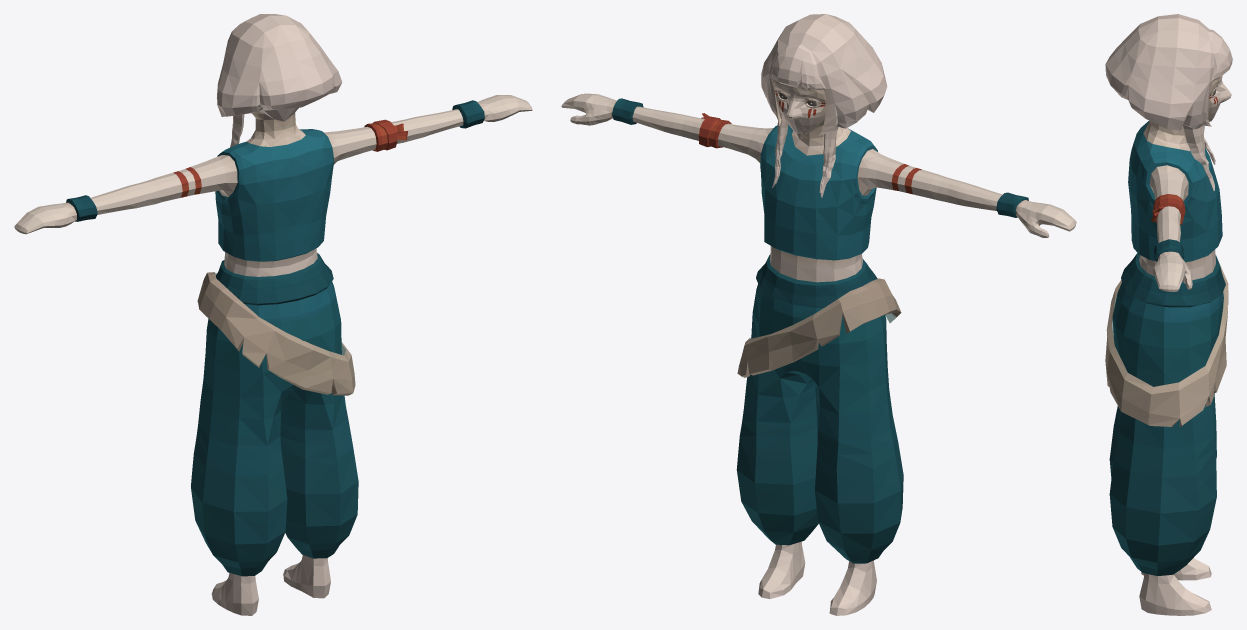
Rendered from CharSkyNPC_Body_AP16BlueSeed.glb.
3 views of the same model, side by side, from view 1: azimuth 30°, elevation 25°; view 2: azimuth 150°, elevation 25°; view 3: azimuth 270°, elevation 25° (orthographic).
Visible parts, largest first — view 1: CharSkyNPC_Body_AP16BlueSeed; view 2: CharSkyNPC_Body_AP16BlueSeed; view 3: CharSkyNPC_Body_AP16BlueSeed.
Part boxes in pixels (box(x1,y1,x2,y2)): CharSkyNPC_Body_AP16BlueSeed: box(14, 14, 532, 615); CharSkyNPC_Body_AP16BlueSeed: box(561, 14, 1076, 615); CharSkyNPC_Body_AP16BlueSeed: box(1105, 14, 1232, 615).
Bounding box in the file's own units: 13.49 × 14.56 × 2.93.
Materials: 1 (1 with a texture image).
